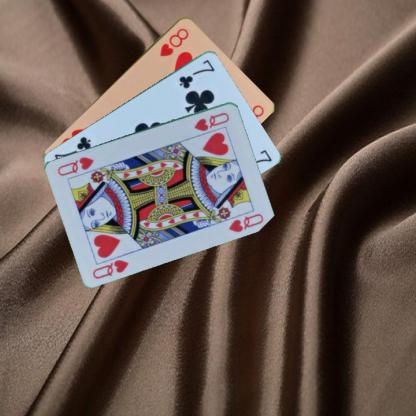7c: (176, 56, 216, 90)
8h: (157, 25, 190, 58)
Qh: (90, 257, 130, 280), (191, 110, 231, 132)
